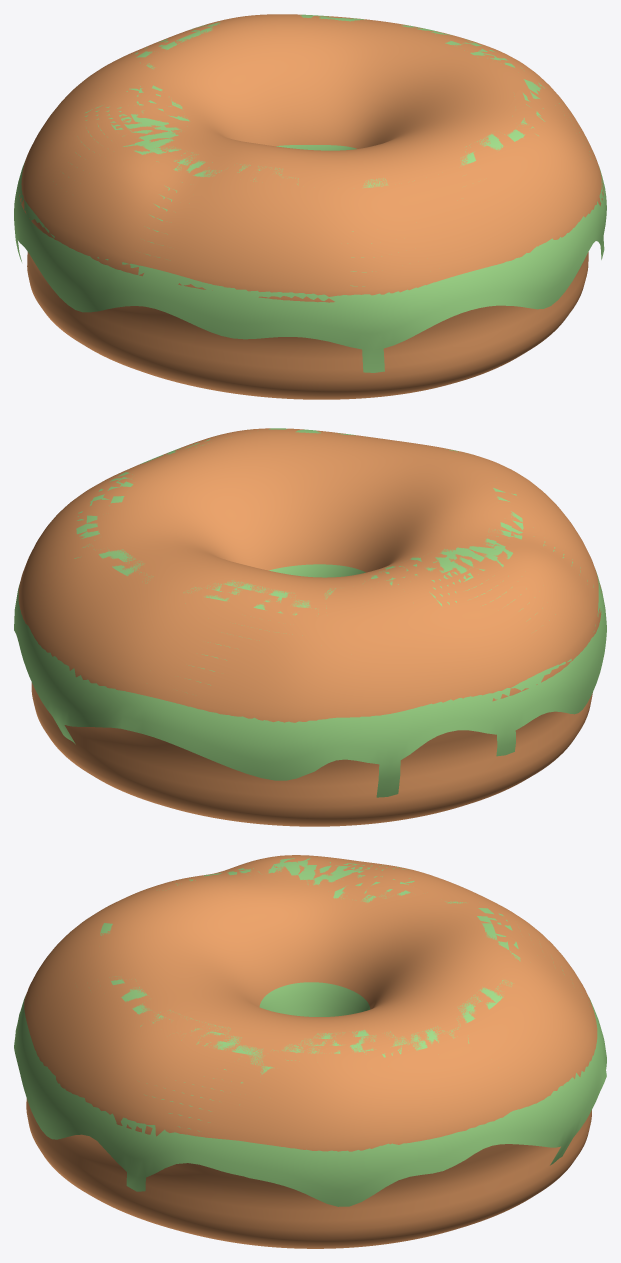
The model's file is donutWithoutPlane.glb.
The picture shows the model from 3 angles, top to bottom: view 1: azimuth 30°, elevation 25°; view 2: azimuth 150°, elevation 25°; view 3: azimuth 270°, elevation 25°; orthographic projection.
Parts seen in each view (by area): view 1: Donut, Icing; view 2: Donut, Icing; view 3: Donut, Icing.
Part boxes in pixels (left/top/right/bottom): Donut: left=19, top=14, right=603, bottom=399; Icing: left=14, top=14, right=606, bottom=372; Donut: left=18, top=428, right=601, bottom=826; Icing: left=14, top=428, right=606, bottom=797; Donut: left=24, top=855, right=597, bottom=1248; Icing: left=14, top=858, right=606, bottom=1206.
Bounding box in the file's own units: 0.0987 × 0.0407 × 0.0983.
